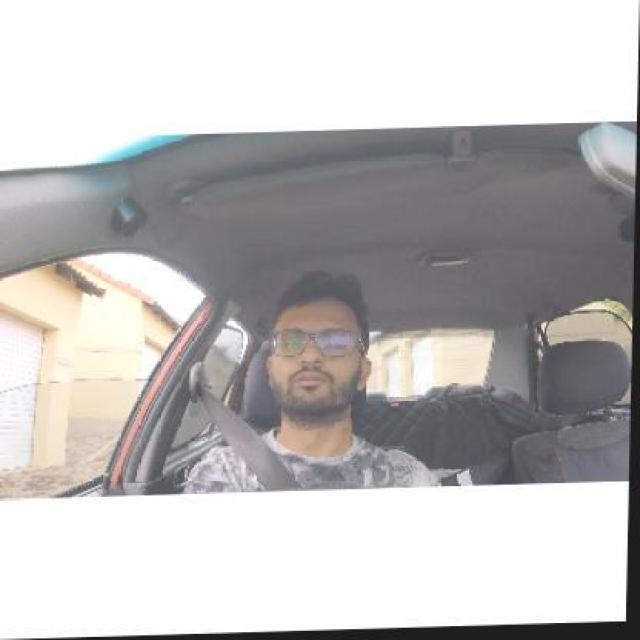drowsy: (262, 272, 373, 437)
